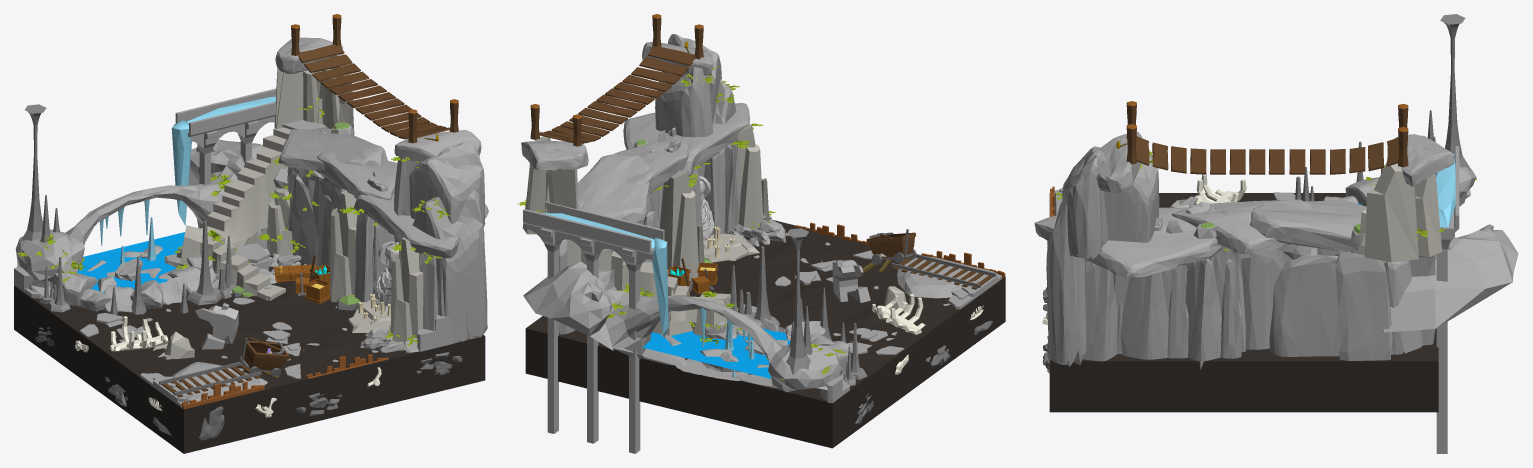
File: Cave.fbx
3 renders of one model, left to right at view 1: azimuth 30°, elevation 25°; view 2: azimuth 150°, elevation 25°; view 3: azimuth 270°, elevation 25°, orthographic. The views are drawn at different scales.
Parts seen in each view (by area): view 1: Cube, Terrain_Rock_Archway_01, Rock_Large_09 (10), Prop_Bridge_Wooden_Hanging_Long_01, Terrain_Modular_Tiles_Rock_Stairs_03, Rock_Chunks_Large_Tall_01 (1) 1, Rock_Large_09 (9), Rock_Large_09 (1), Rock_Large_17, Rock_Large_17 (1), Rock_Large_09, LowPolyWaterv2 (+49 smaller); view 2: Cube, Terrain_Rock_Archway_01, Prop_Bridge_Wooden_Hanging_Long_01, Rock_Large_09 (1), Prop_Aqueduct_Castle_Dungeon_01 (2), Rock_Large_17 (1), Rock_Large_09 (8), Prop_Aqueduct_Castle_Dungeon_01, Prop_Aqueduct_Castle_Dungeon_01 (1), Rock_Large_09, LowPolyWaterv2, Rock_Chunks_Large_Tall_01 (2) (+32 smaller); view 3: Cube, Rock_Chunks_Large_Tall_01 (1) 1, Terrain_Rock_Archway_01, Prop_Bridge_Wooden_Hanging_Long_01, Rock_Chunks_Large_Tall_01 (3), Rock_Chunks_Large_Tall_01 (4), Rock_Large_09 (10), Rock_Large_09, Rock_Large_17 (4), Rock_Large_09 (1), Rock_Large_09 (9), Rock_Large_09 (8) (+10 smaller).
Boxes of the visible parts, x1,y1,x2,y2 form: Cube: (14, 255, 485, 453); Terrain_Rock_Archway_01: (15, 139, 287, 298); Rock_Large_09 (10): (412, 190, 487, 343); Prop_Bridge_Wooden_Hanging_Long_01: (291, 14, 458, 143); Terrain_Modular_Tiles_Rock_Stairs_03: (201, 127, 290, 244); Rock_Chunks_Large_Tall_01 (1) 1: (287, 130, 347, 266); Rock_Large_09 (9): (409, 141, 485, 227); Rock_Large_09 (1): (278, 128, 387, 171); Rock_Large_17: (390, 237, 423, 341); Rock_Large_17 (1): (329, 191, 357, 302); Rock_Large_09: (354, 193, 488, 258); LowPolyWaterv2: (77, 232, 184, 292); Cube: (525, 220, 1005, 448); Terrain_Rock_Archway_01: (523, 261, 845, 392); Prop_Bridge_Wooden_Hanging_Long_01: (530, 14, 703, 146); Rock_Large_09 (1): (545, 154, 650, 246); Prop_Aqueduct_Castle_Dungeon_01 (2): (604, 219, 664, 453); Rock_Large_17 (1): (659, 170, 704, 280); Rock_Large_09 (8): (655, 57, 712, 137); Prop_Aqueduct_Castle_Dungeon_01: (523, 201, 582, 433); Prop_Aqueduct_Castle_Dungeon_01 (1): (562, 209, 622, 443); Rock_Large_09: (623, 103, 749, 176); LowPolyWaterv2: (642, 328, 790, 378); Rock_Chunks_Large_Tall_01 (2): (697, 113, 740, 234); Cube: (1049, 193, 1438, 412); Rock_Chunks_Large_Tall_01 (1) 1: (1240, 244, 1435, 360); Terrain_Rock_Archway_01: (1382, 166, 1518, 332); Prop_Bridge_Wooden_Hanging_Long_01: (1126, 101, 1408, 174); Rock_Chunks_Large_Tall_01 (3): (1185, 201, 1246, 369); Rock_Chunks_Large_Tall_01 (4): (1113, 218, 1188, 359); Rock_Large_09 (10): (1046, 197, 1086, 366); Rock_Large_09: (1034, 207, 1222, 278); Rock_Large_17 (4): (1358, 162, 1418, 262); Rock_Large_09 (1): (1250, 199, 1436, 258); Rock_Large_09 (9): (1062, 146, 1108, 259); Rock_Large_09 (8): (1104, 135, 1159, 242).
Bounding box in the file's own units: 11.56 × 9.69 × 12.33.
